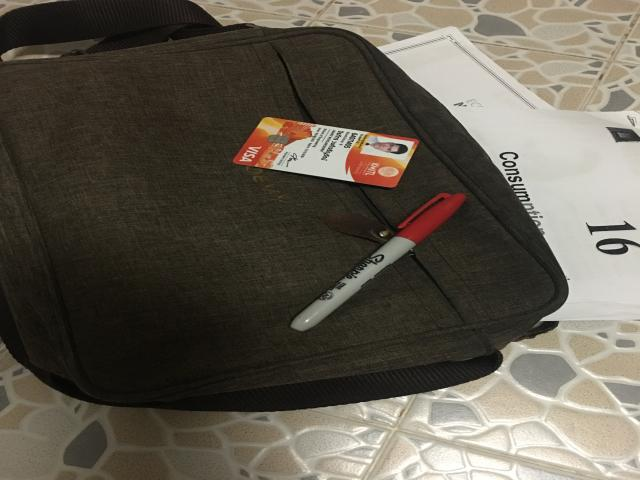Pen: (290, 192, 467, 331)
paper: (380, 27, 640, 321)
